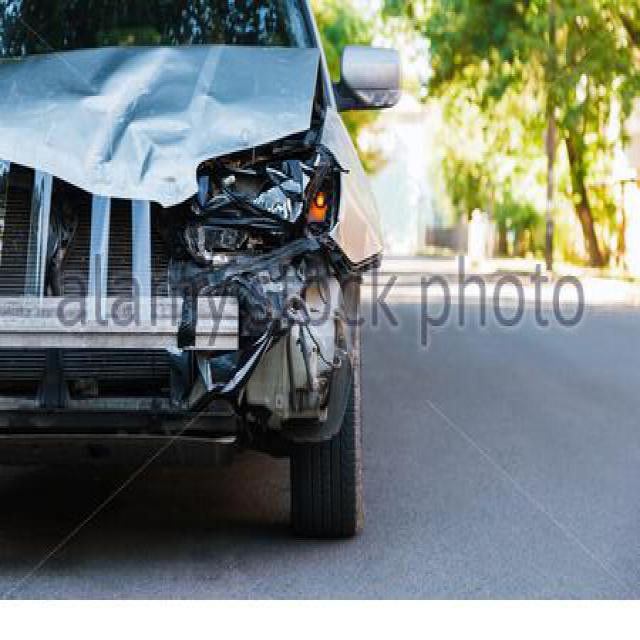bonnet-dent: (9, 54, 324, 204)
front-bumper-dent: (111, 154, 354, 432)
